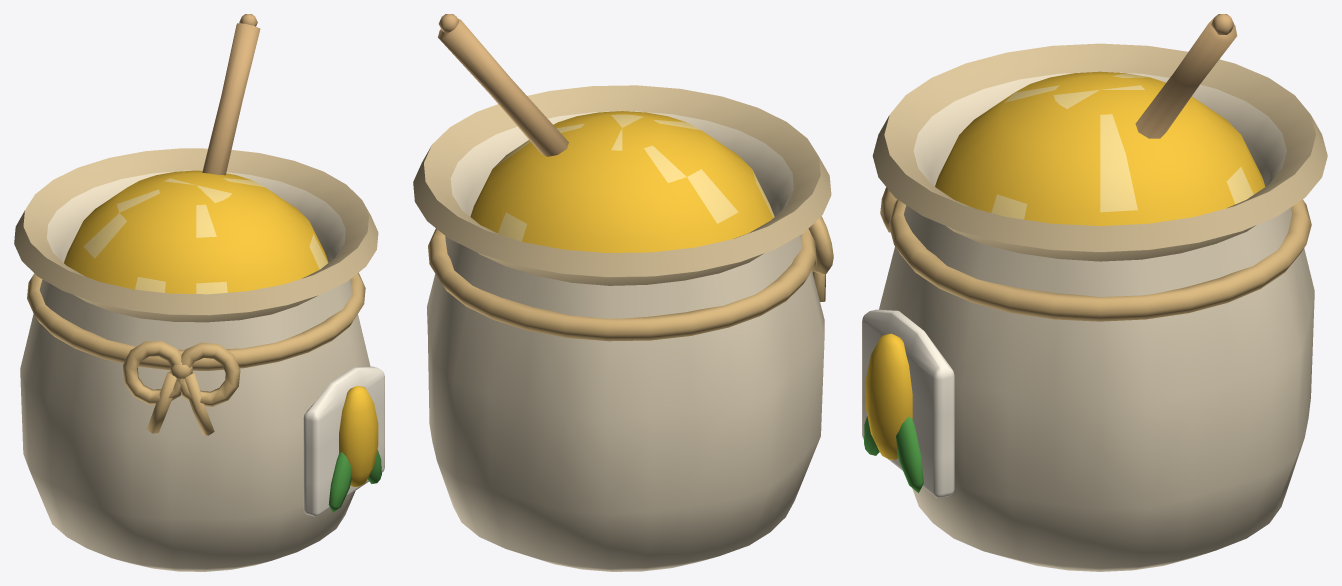
File: fuba.glb
The picture shows the model from 3 angles, left to right: view 1: azimuth 30°, elevation 25°; view 2: azimuth 150°, elevation 25°; view 3: azimuth 270°, elevation 25°; orthographic projection. The views are drawn at different scales.
Visible parts, largest first — view 1: fuba; view 2: fuba; view 3: fuba.
Part boxes in pixels (x1=…): fuba: x1=14, y1=14, x2=384, y2=571; fuba: x1=413, y1=14, x2=833, y2=571; fuba: x1=862, y1=14, x2=1327, y2=571.
Size of the model in its own units: 0.156 by 0.211 by 0.1596.
